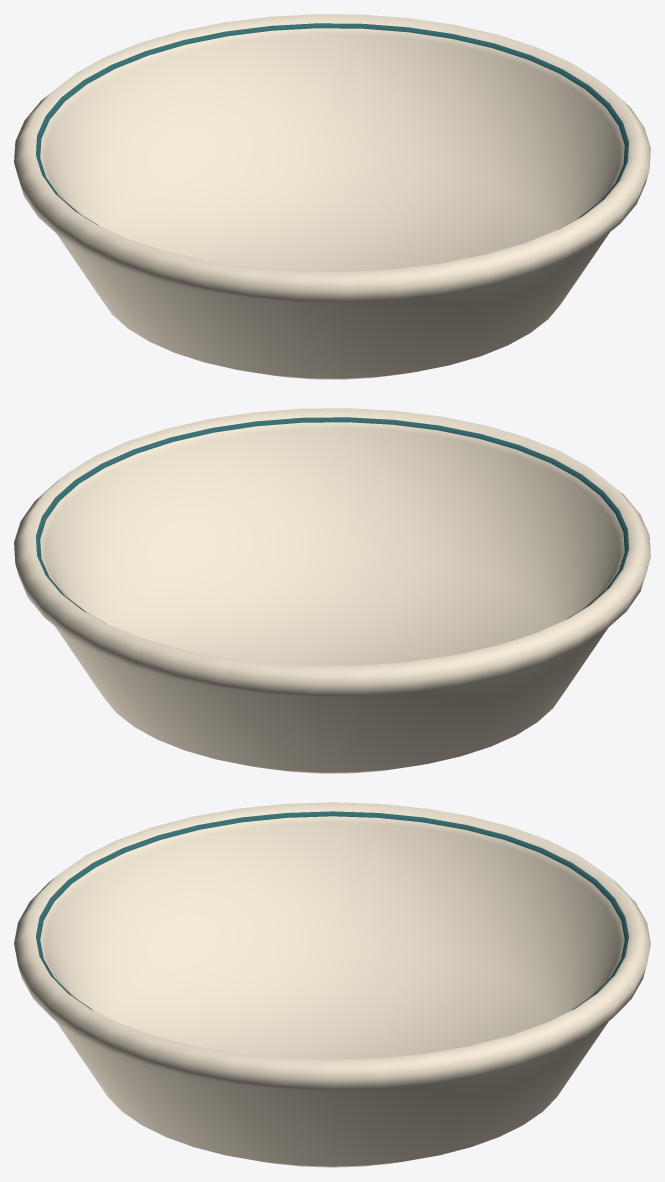
Rendered from dish-clean.obj.
3 views of the same model, one above another, from view 1: azimuth 30°, elevation 25°; view 2: azimuth 150°, elevation 25°; view 3: azimuth 270°, elevation 25° (orthographic).
Parts seen in each view (by area): view 1: dish-clean_ivory, dish-clean_teal; view 2: dish-clean_ivory, dish-clean_teal; view 3: dish-clean_ivory, dish-clean_teal.
Part boxes in pixels (x1,y1,x2,y2): dish-clean_ivory: (14, 14, 650, 379); dish-clean_teal: (36, 23, 628, 229); dish-clean_ivory: (14, 408, 650, 773); dish-clean_teal: (36, 417, 628, 623); dish-clean_ivory: (14, 802, 650, 1167); dish-clean_teal: (36, 811, 628, 1009).
Size of the model in its own units: 0.324 by 0.088 by 0.324.
